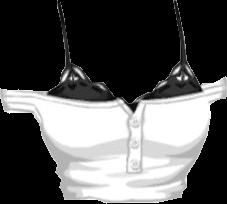Bodice: (0, 0, 226, 202)
Neckline: (58, 0, 181, 112), (0, 76, 226, 112)
Waistline: (64, 192, 182, 203)
